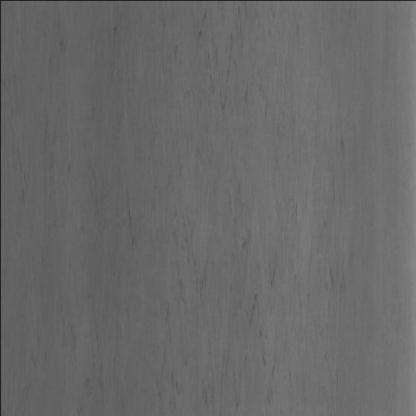silk_spot: (89, 9, 297, 399)
